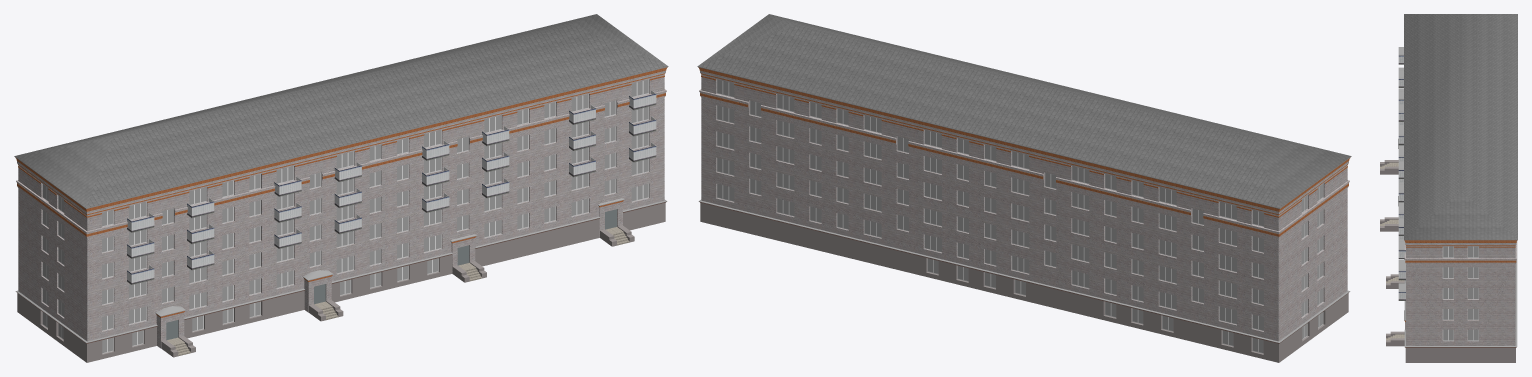
The model's file is res_brick_5.glb.
3 renders of one model, left to right at view 1: azimuth 30°, elevation 25°; view 2: azimuth 150°, elevation 25°; view 3: azimuth 270°, elevation 25°, orthographic. The views are drawn at different scales.
Parts seen in each view (by area): view 1: res_brick_5; view 2: res_brick_5; view 3: res_brick_5.
Part boxes in pixels (x1,y1,x2,y2): res_brick_5: [14, 14, 668, 362]; res_brick_5: [697, 14, 1351, 362]; res_brick_5: [1380, 14, 1517, 362].
Bounding box in the file's own units: 59.58 × 18.18 × 15.35.
Materials: 13 (5 with a texture image).
